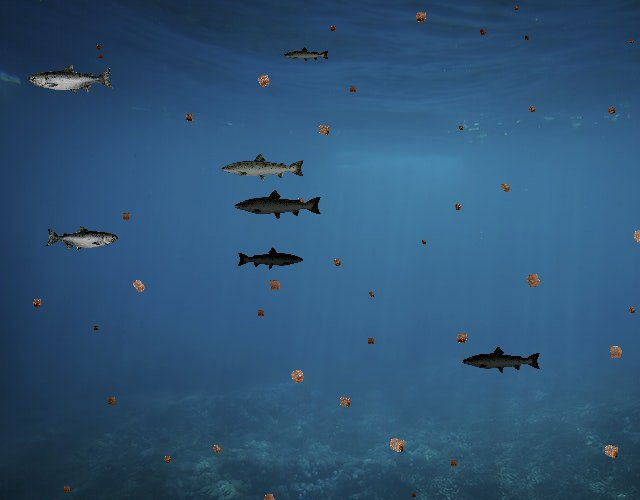Fish: (233, 188, 323, 220), (220, 152, 306, 183), (28, 64, 114, 95), (462, 346, 543, 375), (46, 225, 119, 252), (237, 247, 305, 271), (284, 46, 331, 63)
Pellet: (312, 118, 335, 141), (495, 177, 515, 197), (181, 110, 198, 127), (363, 334, 378, 348), (93, 41, 106, 54), (456, 122, 466, 132)
